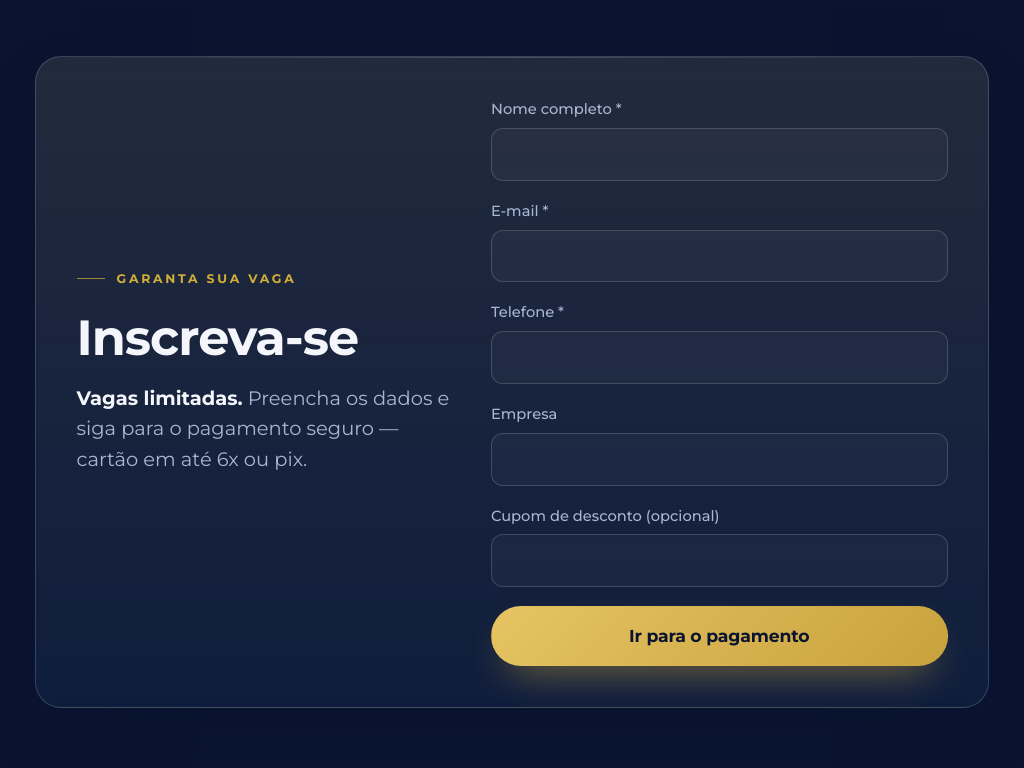
Test: RegistrationForm › validation messages + retained values (Req 10.3) › retains the typed values after an invalid submit
The width and height of the screenshot is (1024, 768).
Type "Maria Silva" into the field labelled "Nome completo *". click: point(719, 154)
box: [491, 128, 948, 181]
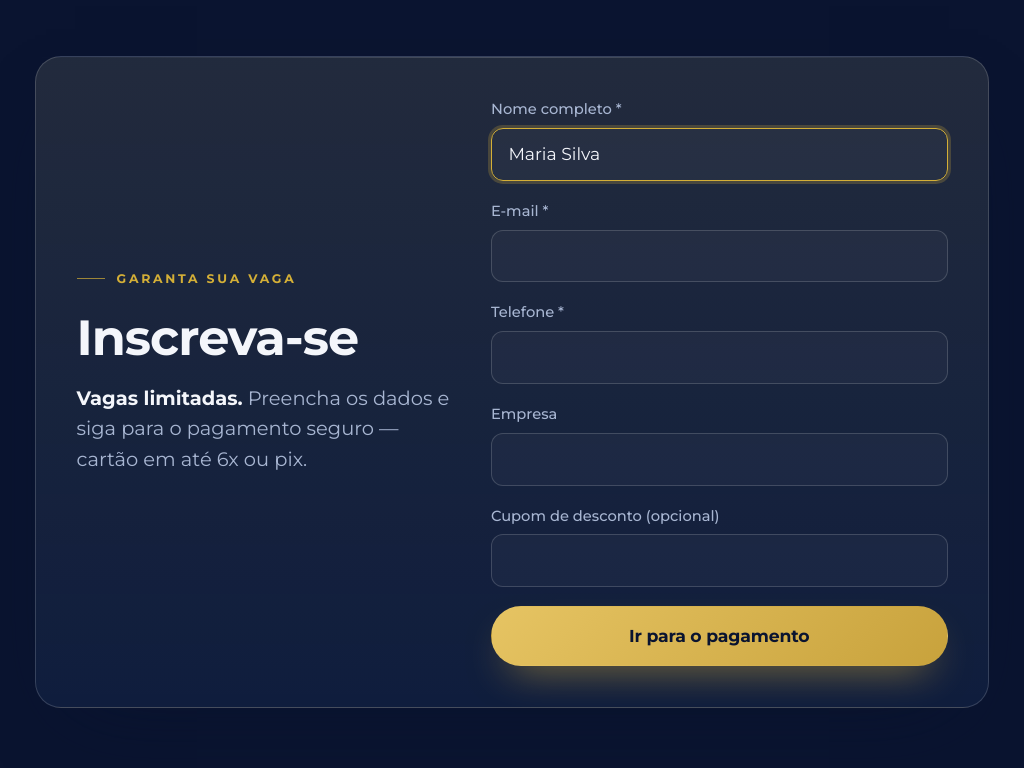
Type "not-an-email" into the field labelled "E-mail *". click: point(719, 256)
box: [491, 230, 948, 282]
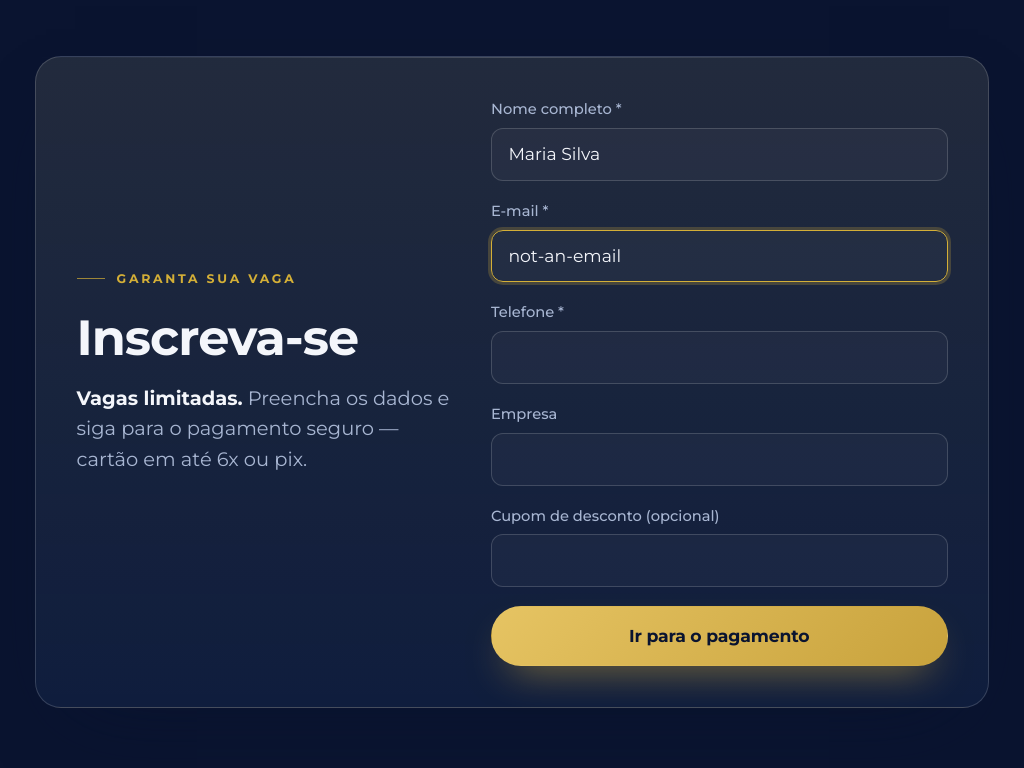
Type "47999998888" into the field labelled "Telefone *". click: point(719, 358)
box: [491, 331, 948, 384]
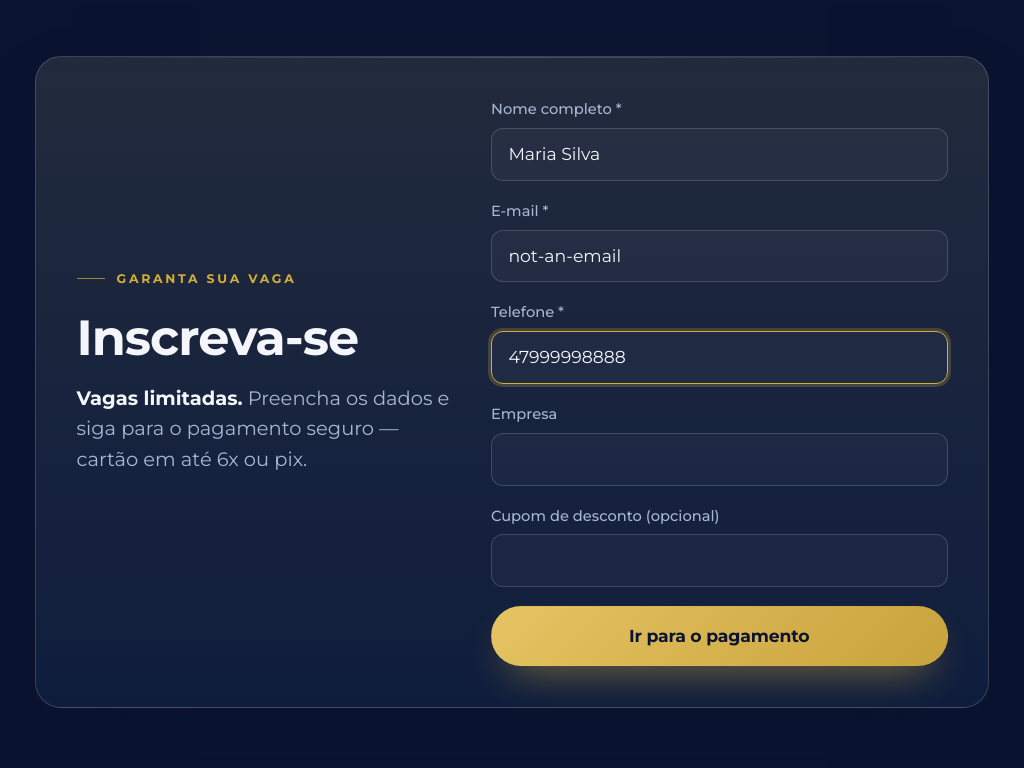
Type "Acme Ltda" into the field labelled "Empresa". click: point(719, 459)
box: [491, 433, 948, 486]
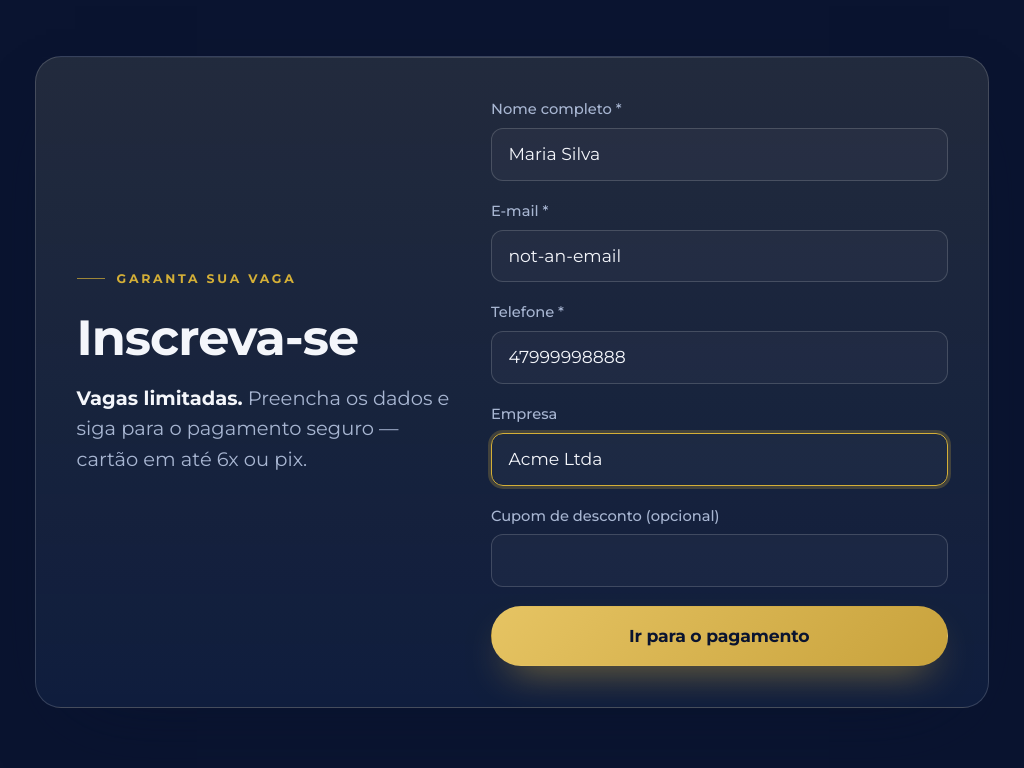
Click the button "Ir para o pagamento". click: point(719, 636)
box: [491, 606, 948, 666]
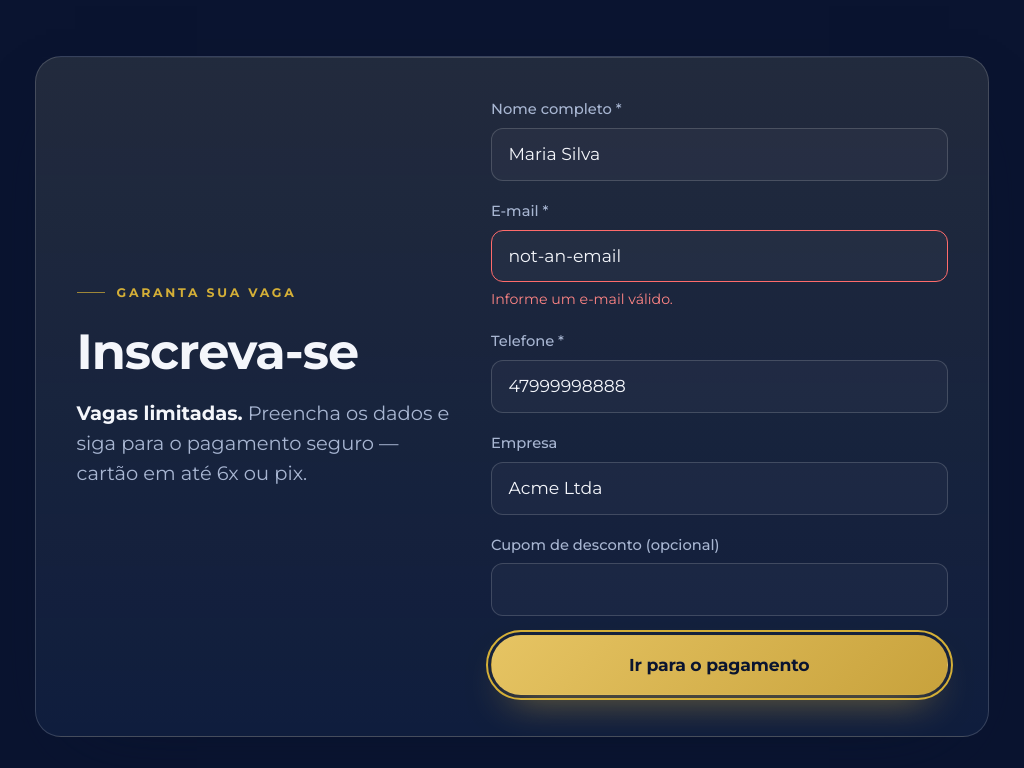
Now the text "Informe um e-mail válido." is shown, box [491, 290, 673, 308]
